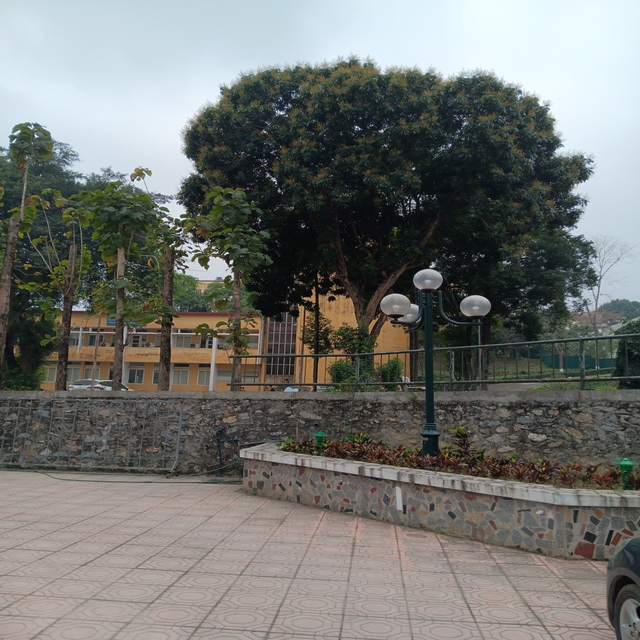cotden: (368, 255, 504, 477)
